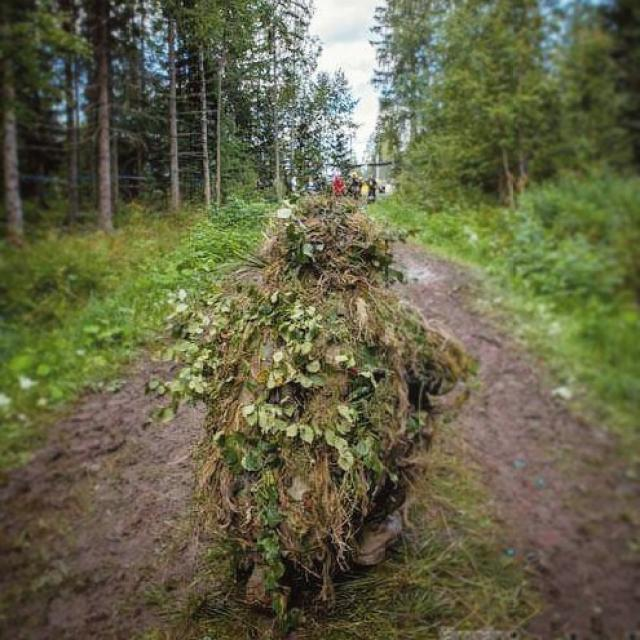Camouflage: (152, 195, 475, 614)
